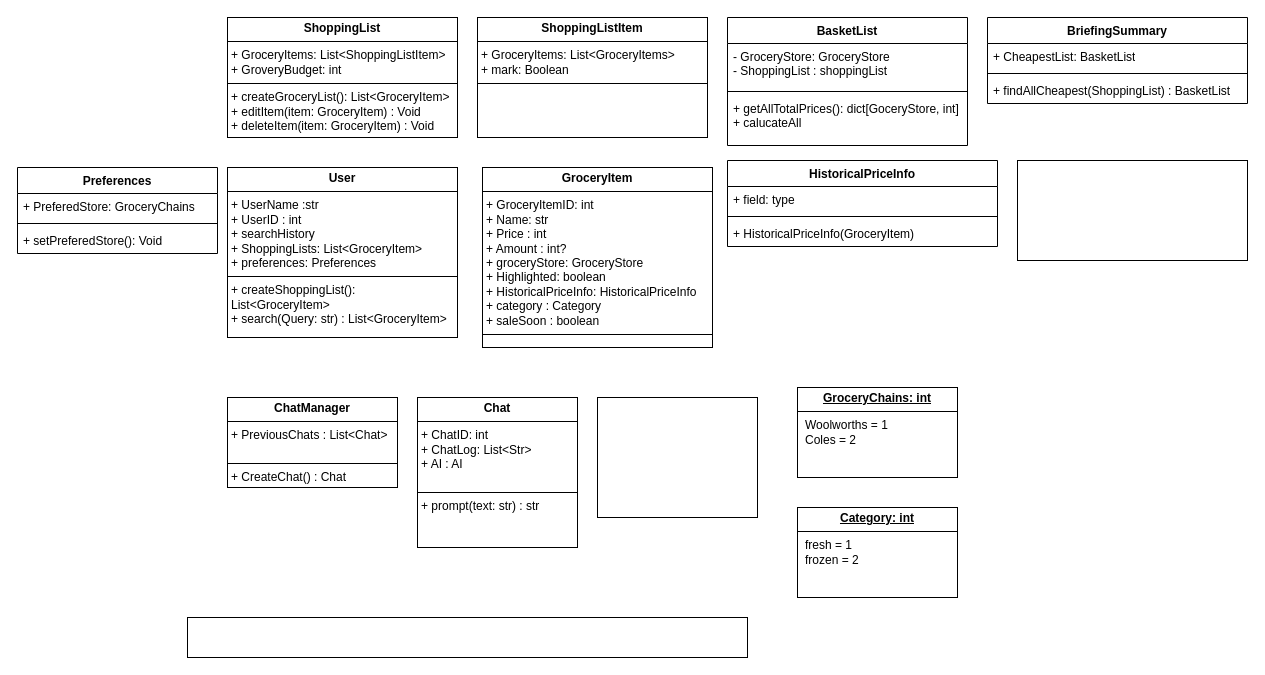
Some shapes in this 1265 by 675 pixel diagram are drawn without their labels. The shapes that lost their labels are listed below. From the top down, each one's centre as x and y in pixels, then its label:
pixel 1132 210: GroceryStore + GroceryChain : GroceryChains + Location: GeoHash | Coordatinates
pixel 677 457: AI + Context: str + response(prompt :str): str
pixel 467 637: ** This UML diagram does not include User stories 11, 12
